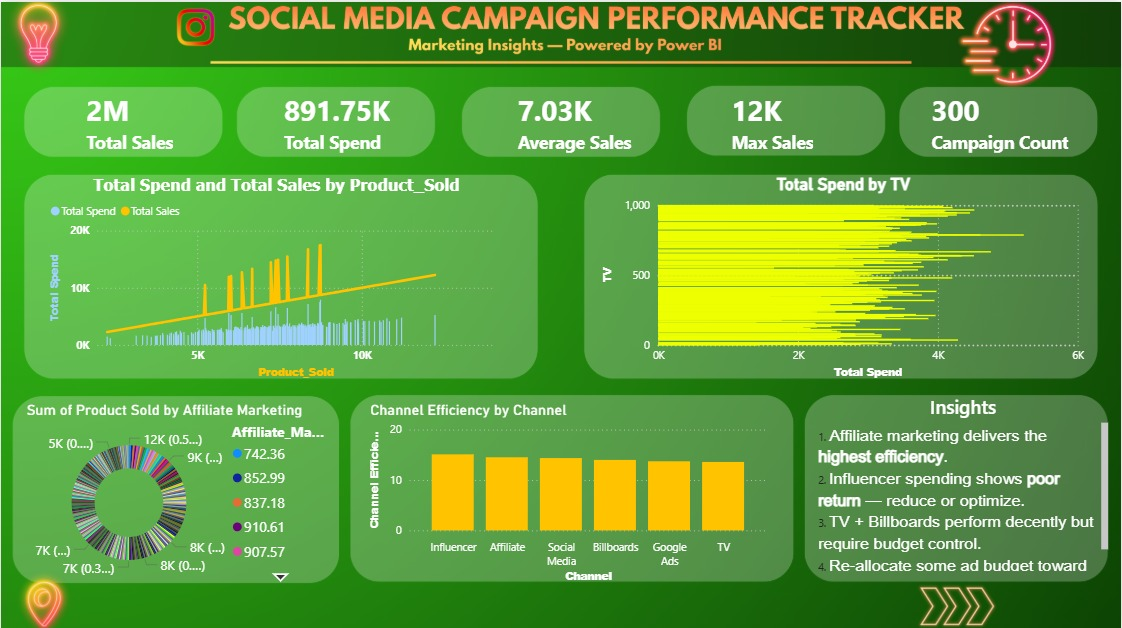

The dashboard page shown, as its layout file describes it:
{"tool":"powerbi","page":{"name":"Page 1","canvas":[1280,720],"ordinal":0},"visuals":[{"type":"cardVisual","fields":{"Data":["Advertising_Data.Total Sales"]},"box":[68.9,77.3,245.2,119.3],"z":0},{"type":"cardVisual","fields":{"Data":["Advertising_Data.Total Spend"]},"box":[294,77.3,245.2,119.3],"z":1000},{"type":"cardVisual","fields":{"Data":["Advertising_Data.Average Sales"]},"box":[561,77.3,245.2,119.3],"z":2000},{"type":"cardVisual","fields":{"Data":["Advertising_Data.Max Sales"]},"box":[806.3,77.3,245.2,119.3],"z":3000},{"type":"cardVisual","fields":{"Data":["Advertising_Data.Campaign Count"]},"box":[1034.8,77.3,245.2,119.3],"z":4000},{"type":"lineClusteredColumnComboChart","fields":{"Category":["Advertising_Data.Product_Sold"],"Y":["Advertising_Data.Total Spend"],"Y2":["Advertising_Data.Total Sales"]},"box":[51,197,527.2,239.5],"z":5000},{"type":"clusteredBarChart","fields":{"Category":["Advertising_Data.TV","Advertising_Data.Billboards","Advertising_Data.Google_Ads","Advertising_Data.Influencer_Marketing","Advertising_Data.Affiliate_Marketing","Advertising_Data.Social_Media"],"Y":["Advertising_Data.Total Spend"]},"box":[683.1,197,559.8,239.5],"z":6000},{"type":"donutChart","title":"Sum of Product Sold by Affiliate Marketing","fields":{"Category":["Advertising_Data.Affiliate_Marketing"],"Y":["Sum(Advertising_Data.Product_Sold)"]},"box":[24.1,456.4,354.3,214],"z":7000},{"type":"clusteredColumnChart","fields":{"Category":["Channels.Channel"],"Y":["Advertising_Data.Channel Efficiency"]},"box":[416.7,456.4,463.5,214],"z":8000},{"type":"textbox","title":"Insights","box":[928.3,446.5,341.6,208.3],"z":9000}]}

Visuals, with their boxes in screenshot pixels (x1, y1, x2, y2), scaled from the page's 1280x720 canvas onto the 1122x628 screenshot:
cardVisual - Advertising_Data.Total Sales: rect(60, 67, 275, 171)
cardVisual - Advertising_Data.Total Spend: rect(258, 67, 473, 171)
cardVisual - Advertising_Data.Average Sales: rect(492, 67, 707, 171)
cardVisual - Advertising_Data.Max Sales: rect(707, 67, 922, 171)
cardVisual - Advertising_Data.Campaign Count: rect(907, 67, 1121, 171)
lineClusteredColumnComboChart - Advertising_Data.Product_Sold x Advertising_Data.Total Spend: rect(45, 172, 507, 381)
clusteredBarChart - Advertising_Data.TV x Advertising_Data.Billboards: rect(599, 172, 1089, 381)
"Sum of Product Sold by Affiliate Marketing" donutChart: rect(21, 398, 332, 585)
clusteredColumnChart - Channels.Channel x Advertising_Data.Channel Efficiency: rect(365, 398, 772, 585)
"Insights" textbox: rect(814, 389, 1113, 571)
